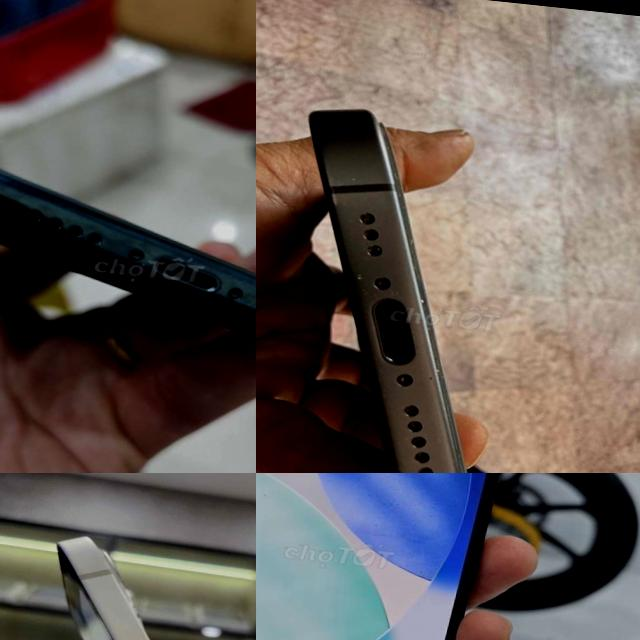gen_11: (0, 115, 256, 389)
gen_12_13: (0, 525, 256, 640)
gen_16: (256, 473, 498, 640)
gen_17: (256, 83, 544, 473)
scratch: (316, 158, 362, 210), (354, 256, 378, 300)
